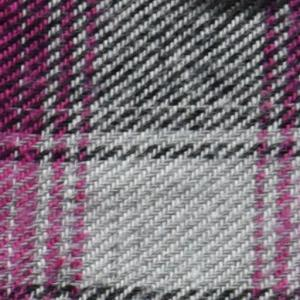Stain: (175, 1, 298, 25)
